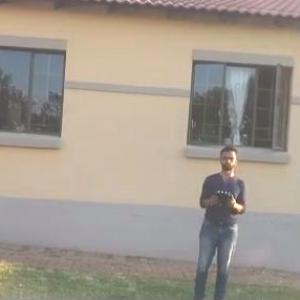follow: (184, 133, 251, 299)
